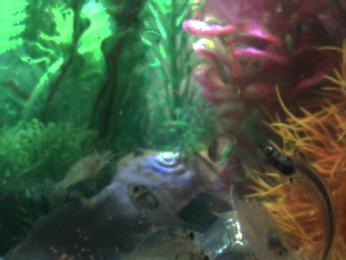X-ray fish: (127, 224, 204, 260), (126, 180, 184, 226)
glassfish: (256, 143, 338, 259)
siberian prawn: (213, 186, 304, 260), (50, 148, 115, 197)
